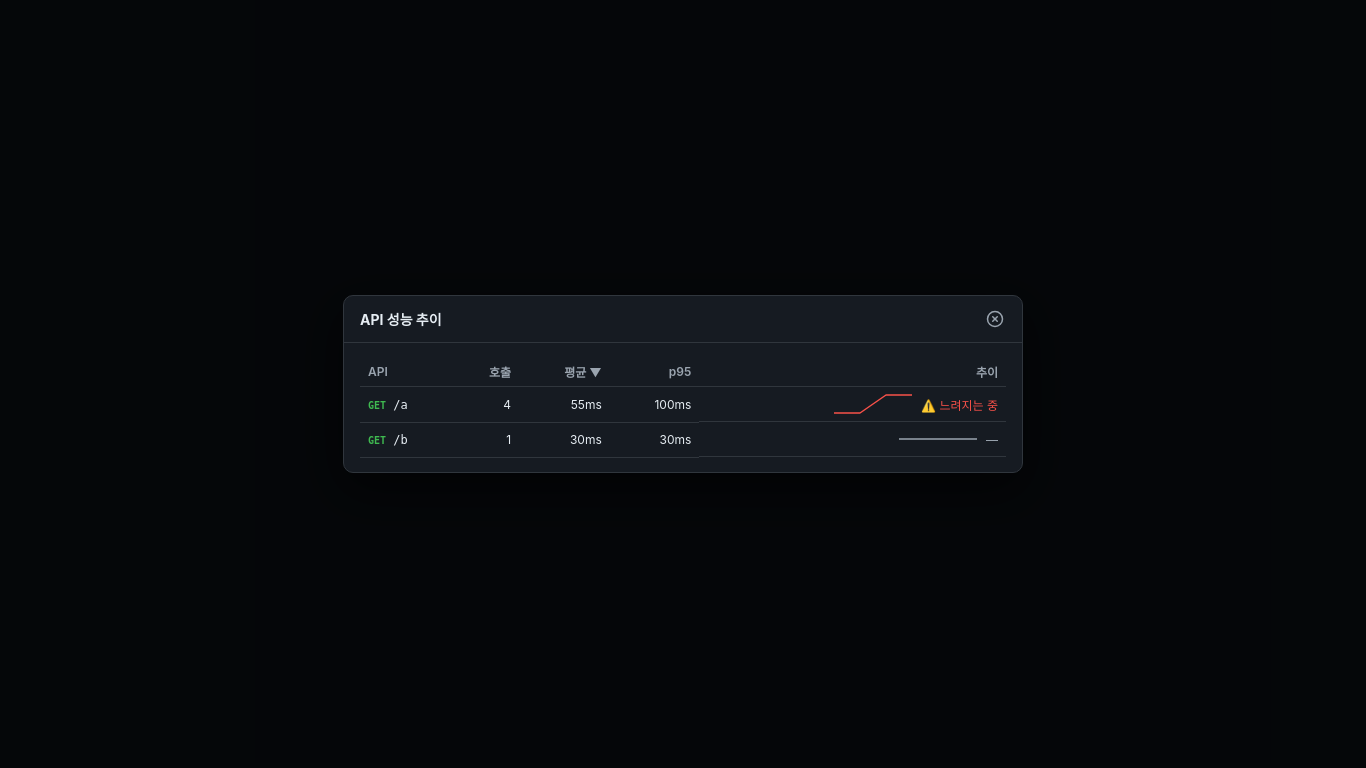
Test case: PerfModal › 다른 컬럼 클릭 시 해당 컬럼이 활성화되고 방향은 desc로 초기화된다
Click the column heading "p95".
click(654, 372)  # box [610, 357, 699, 387]
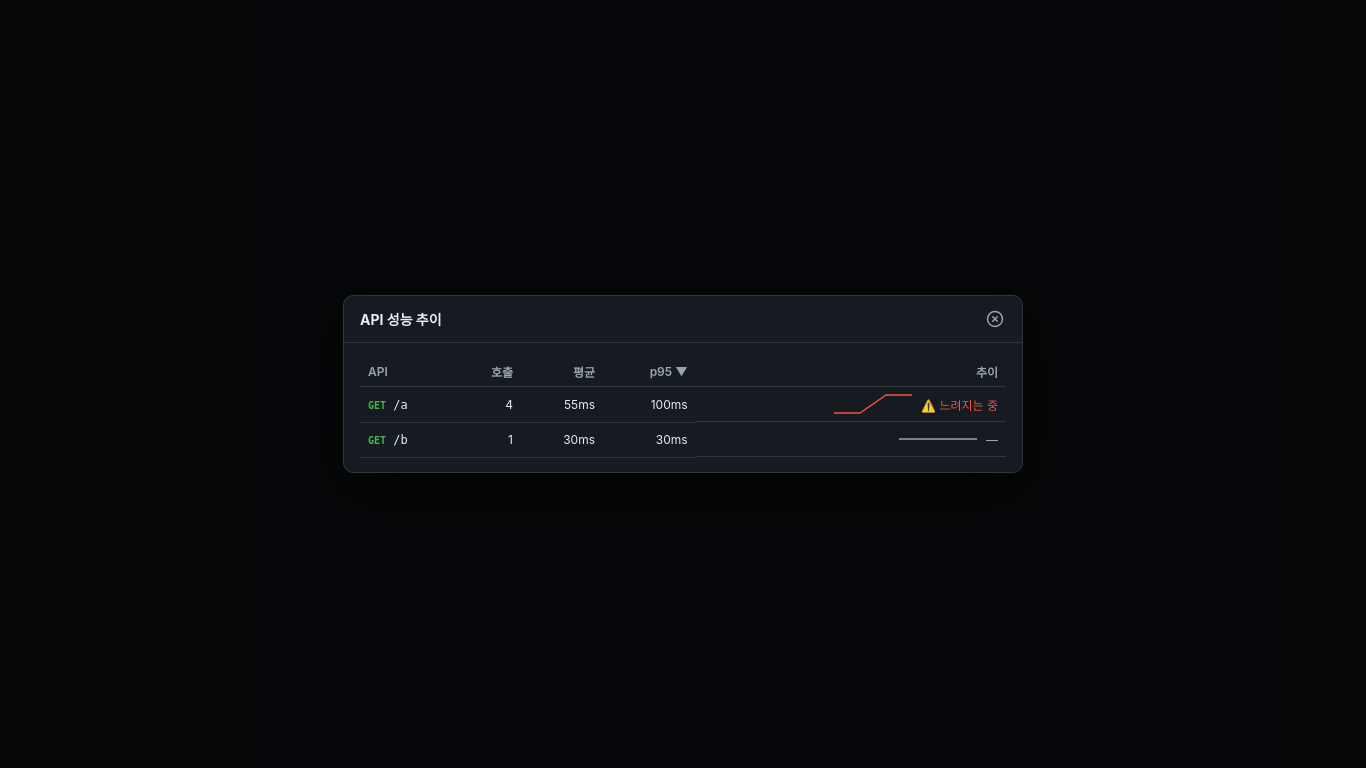
Now the column heading "p95 ▼" is shown, box [603, 357, 696, 387]
Now the column heading "평균" is shown, box [521, 357, 603, 387]
